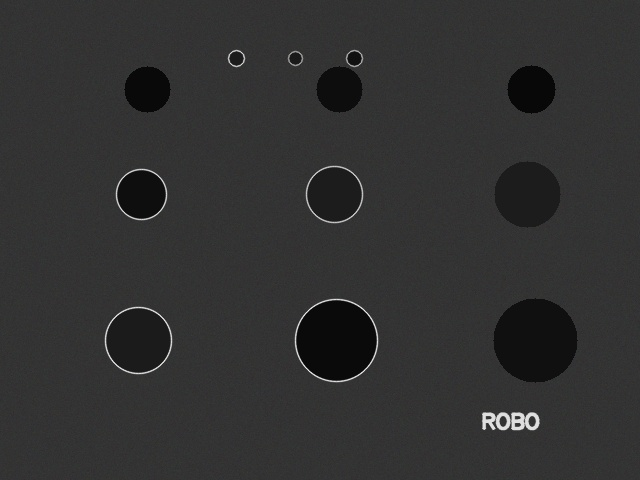hole: (493, 298, 577, 382), (295, 299, 377, 381), (494, 161, 560, 227), (105, 307, 171, 373), (306, 166, 362, 222), (116, 169, 166, 219), (507, 65, 555, 113), (124, 66, 170, 112), (316, 66, 362, 112), (228, 50, 244, 66), (346, 50, 362, 66), (288, 51, 302, 65)
